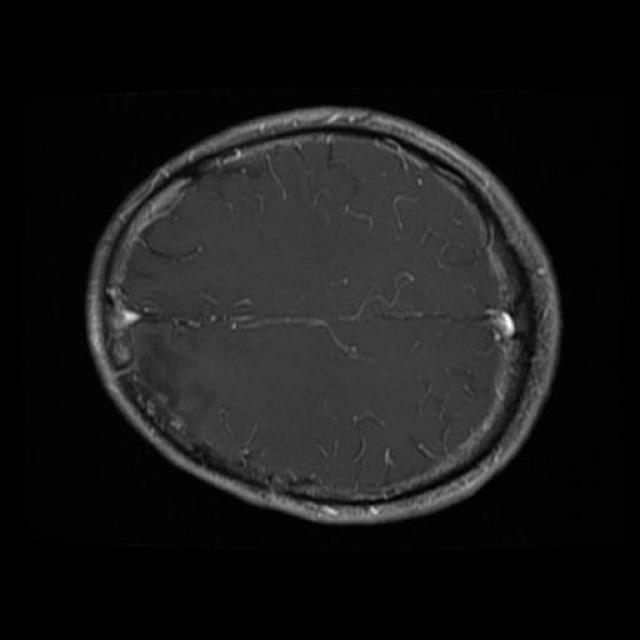Glioma: (136, 324, 213, 425)
